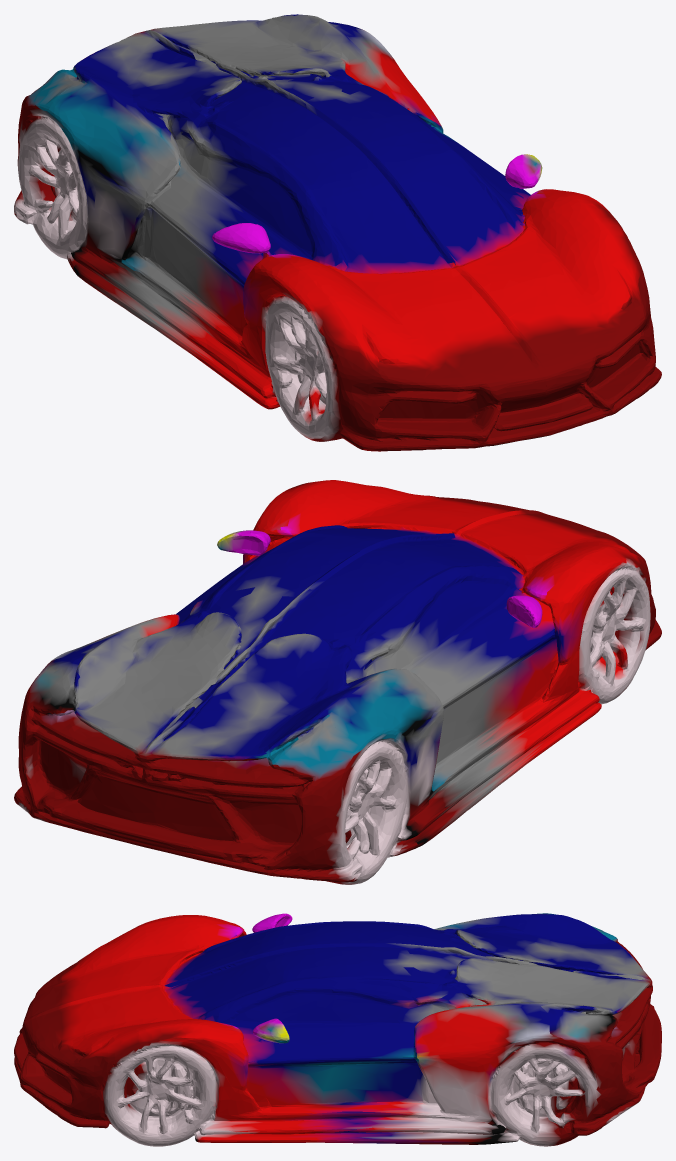
Rendered from semantic23.glb.
3 views of the same model, one above another, from view 1: azimuth 30°, elevation 25°; view 2: azimuth 150°, elevation 25°; view 3: azimuth 270°, elevation 25° (orthographic). The views are drawn at different scales.
Visible parts, largest first — view 1: demo_textured; view 2: demo_textured; view 3: demo_textured.
Part boxes in pixels (x1,y1,x2,y2): demo_textured: (14,14,661,451); demo_textured: (14,480,661,884); demo_textured: (14,913,661,1146).
Bounding box in the file's own units: 0.9669 × 0.4978 × 1.99.
